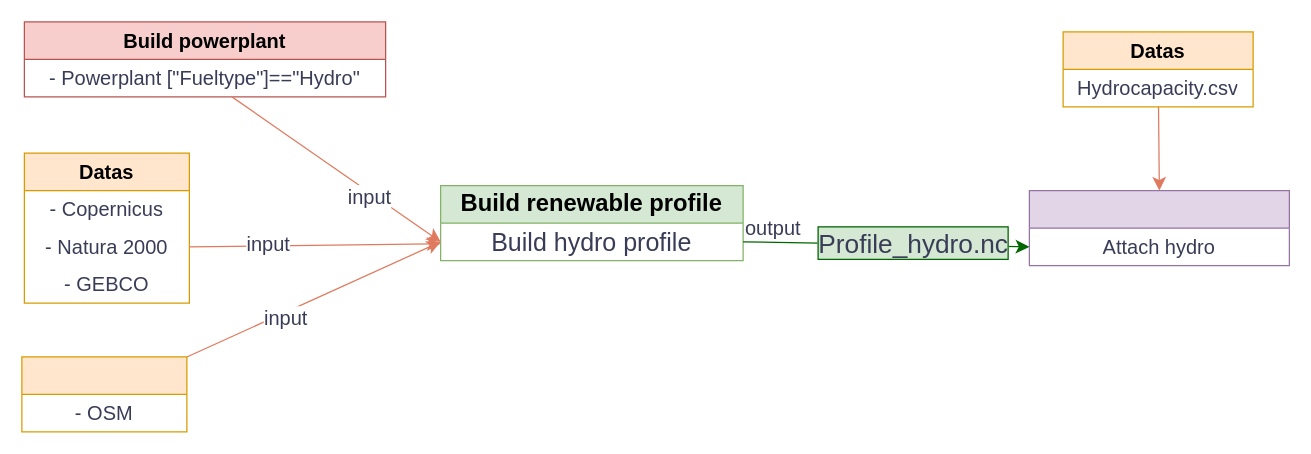
Some shapes in this 1311 by 454 pixel diagram are drawn without their labels. Here are the shapes that lost their labels. From the top down, the box of each, then its label:
(1028, 189, 1289, 266): Add electricity
(21, 356, 187, 432): Base network
